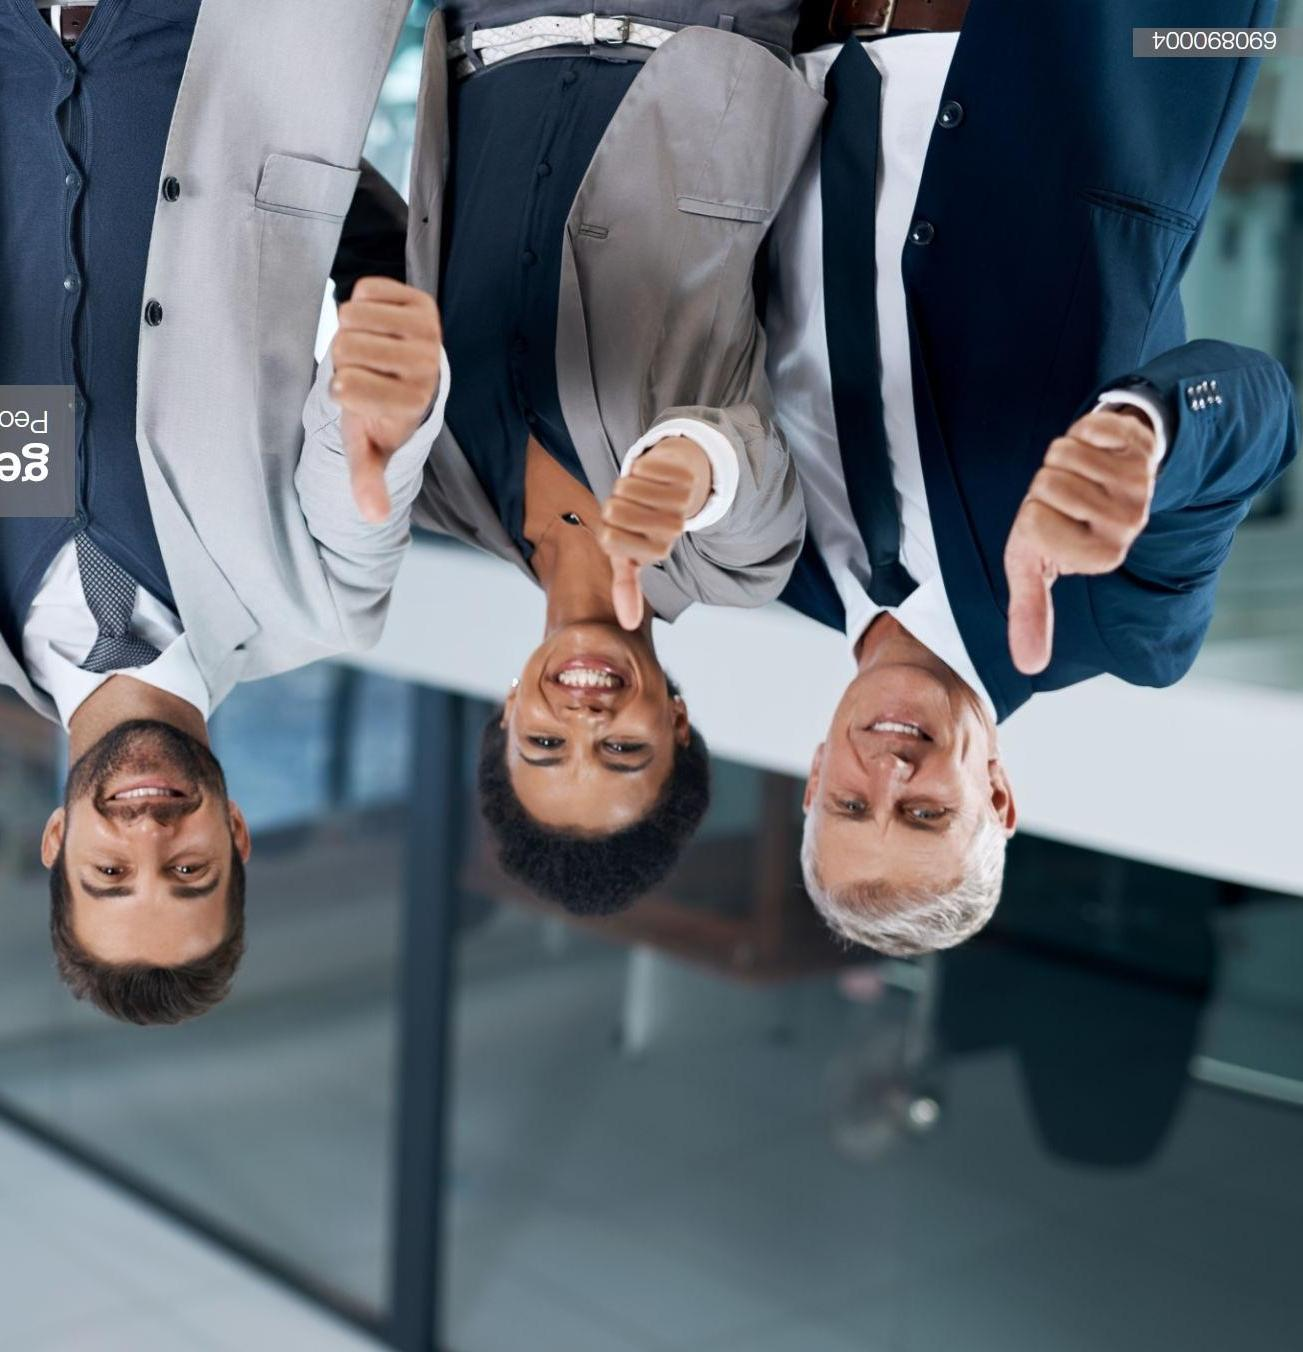thumbsdown: (1004, 410, 1159, 676), (331, 276, 441, 521), (600, 458, 696, 630)
